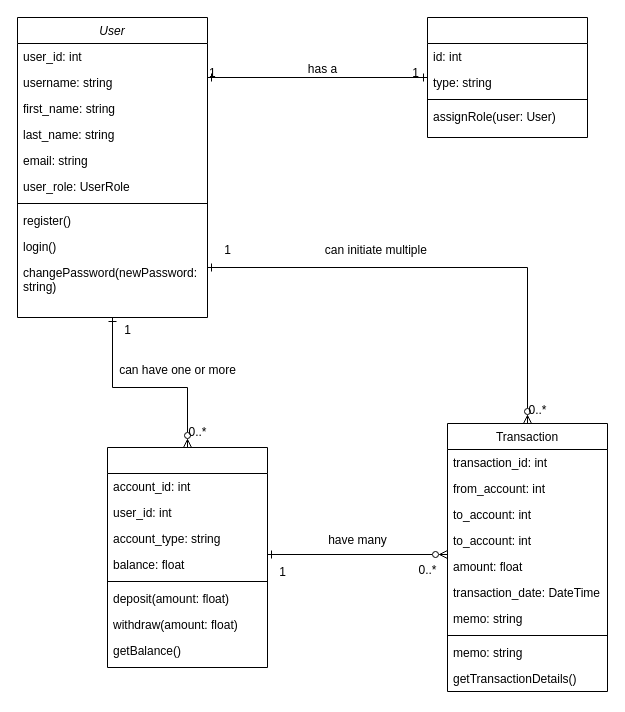
This 625x712 diagram has some shape labels left out. Here are the shapes that lost their labels. From the top down, the box of each, then its label:
(426, 16, 588, 138): UserRole
(106, 446, 268, 668): BankAccount
